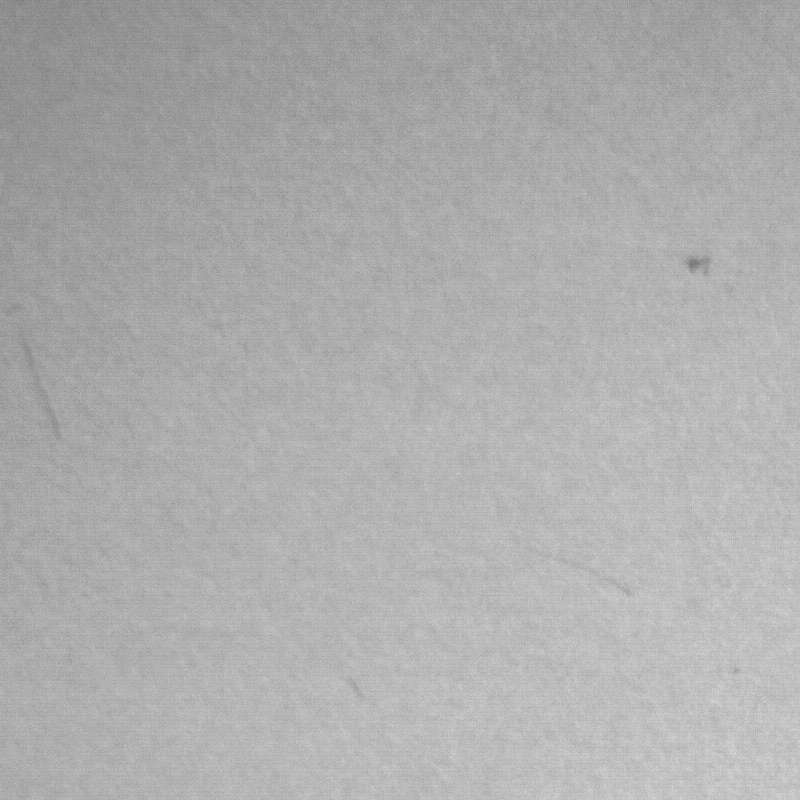defect: (541, 548, 631, 600), (26, 343, 63, 441), (688, 254, 725, 278), (350, 678, 365, 703)
